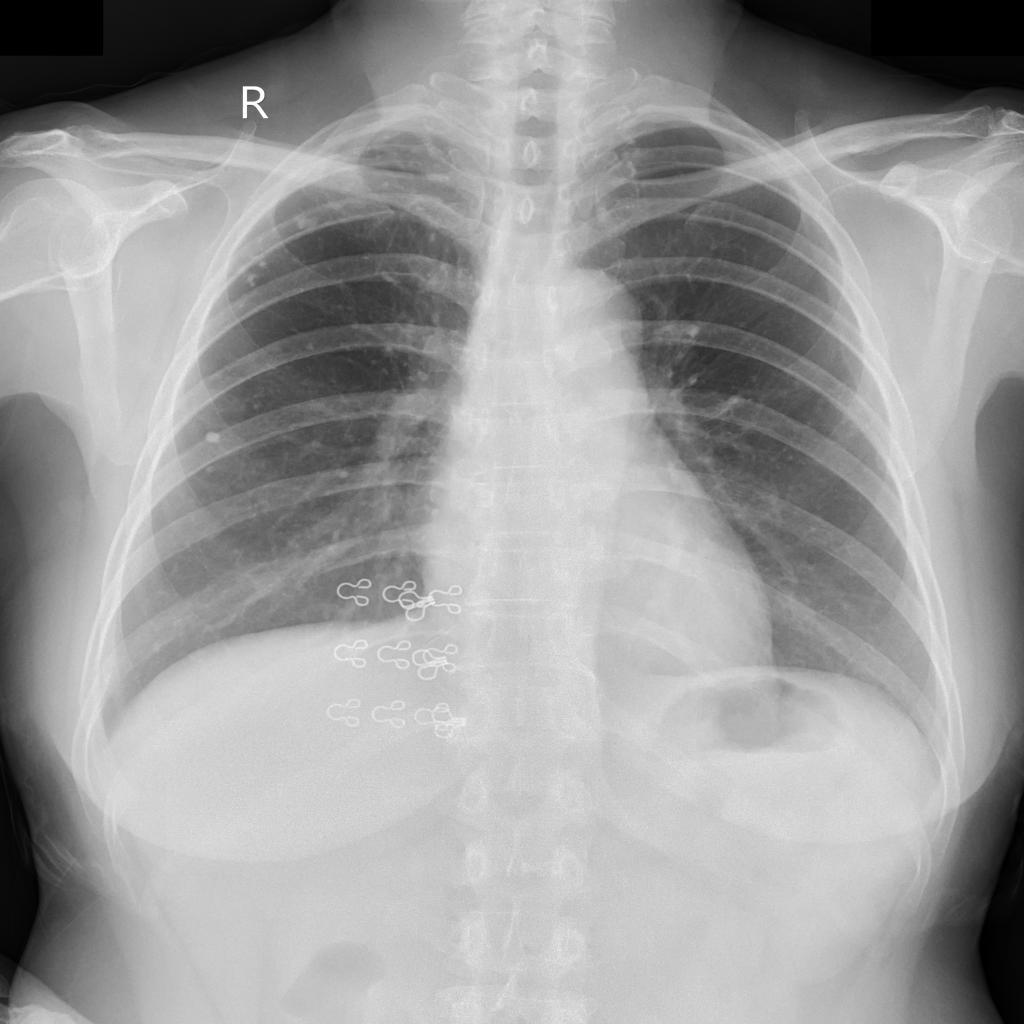Nodule: (303, 311, 436, 389), (366, 128, 446, 244), (237, 204, 338, 292), (291, 213, 320, 230), (255, 237, 268, 268), (245, 274, 259, 288), (208, 429, 220, 445), (336, 471, 351, 480), (205, 466, 215, 474)
